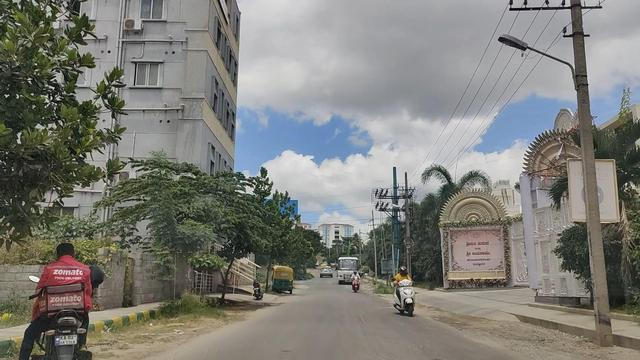LMV: (21, 237, 100, 360)
RoadDamages: (456, 328, 568, 360)
